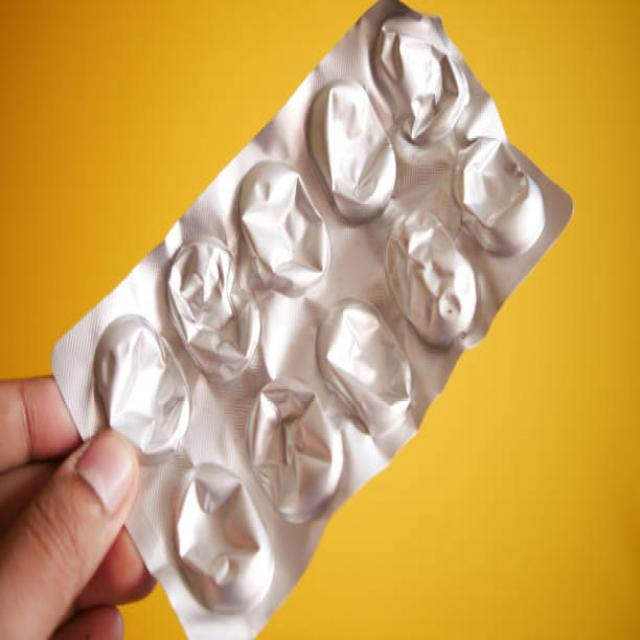Empty: (149, 426, 297, 640), (220, 351, 368, 541), (303, 263, 434, 456), (225, 129, 348, 332), (75, 290, 202, 486), (288, 55, 415, 250), (149, 207, 272, 406), (370, 182, 498, 372), (356, 0, 483, 174), (438, 108, 565, 281)
